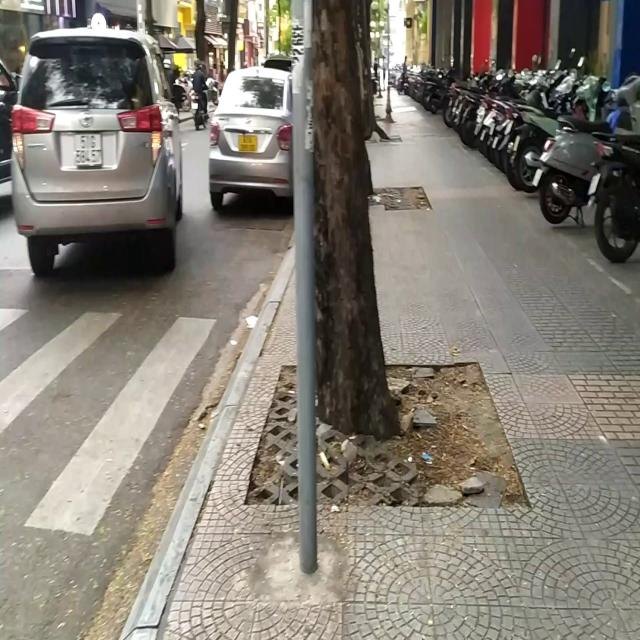bien_trang: (74, 134, 105, 174)
